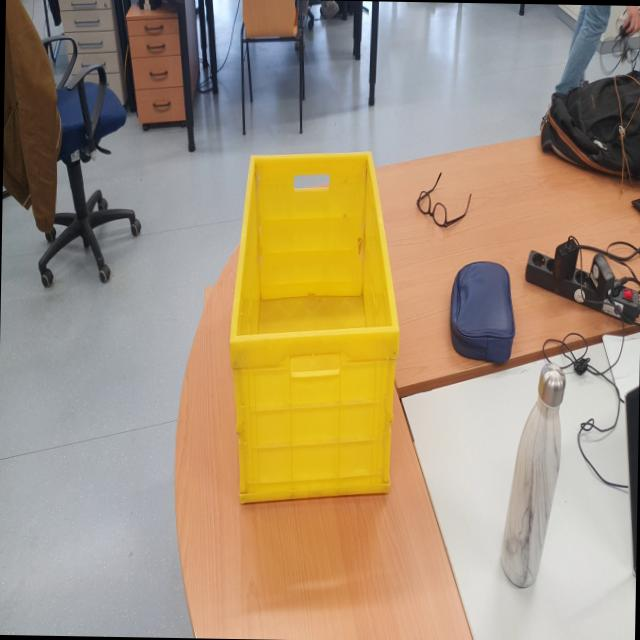box: (217, 132, 408, 528)
